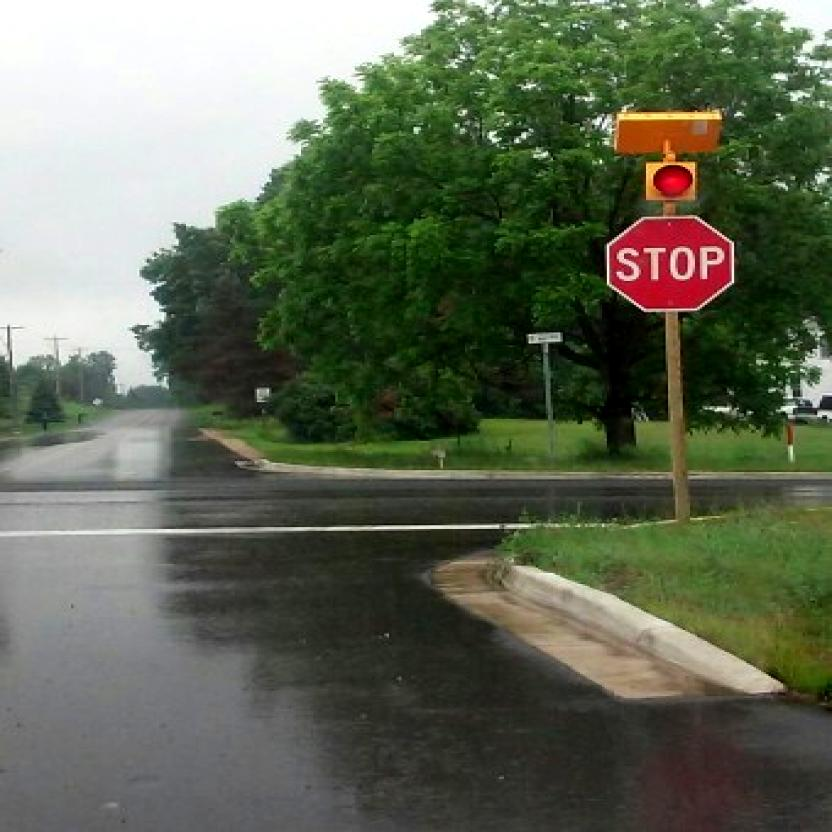Pole: (664, 315, 688, 524), (543, 344, 554, 455)
Sign: (612, 218, 736, 310)
